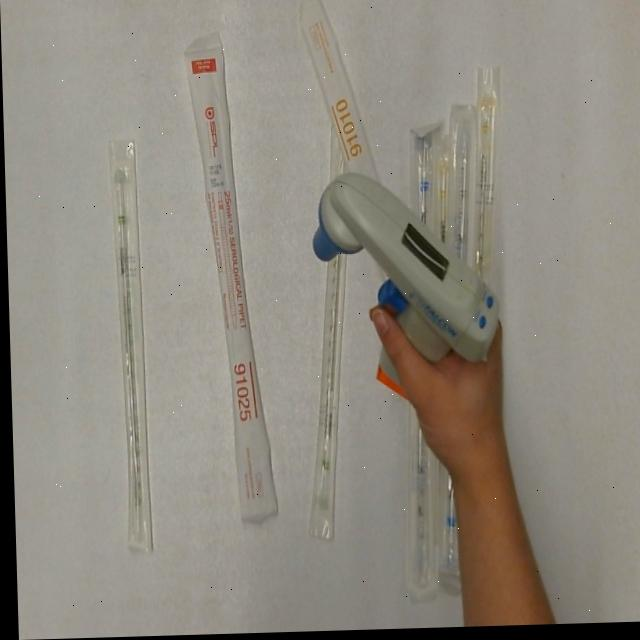Pipette Controller: (304, 166, 502, 408)
Serelogical Pipet 1 mL: (451, 67, 514, 483), (420, 134, 463, 387)
Serelogical Pipet 10 mL: (295, 0, 461, 476)
Serelogical Pipet 2 mL: (295, 117, 369, 545), (105, 135, 152, 561)
Serelogical Pipet 25 mL: (183, 29, 291, 530)
Serelogical Pipet 5 mL: (423, 103, 489, 582), (392, 118, 449, 602)
